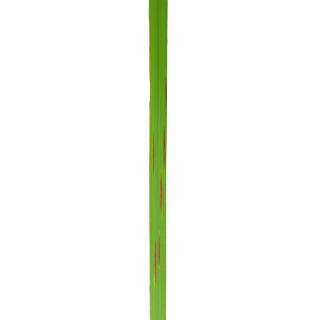Bercak-Cokelat-Sempit: (148, 230, 166, 286), (160, 74, 172, 116), (158, 125, 168, 171), (156, 174, 164, 216), (148, 130, 154, 173)
